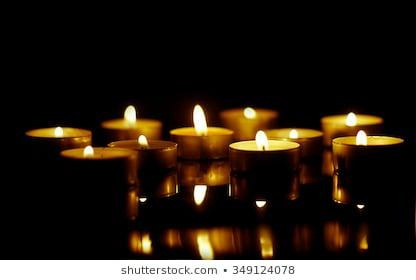fire: (192, 100, 207, 133)
